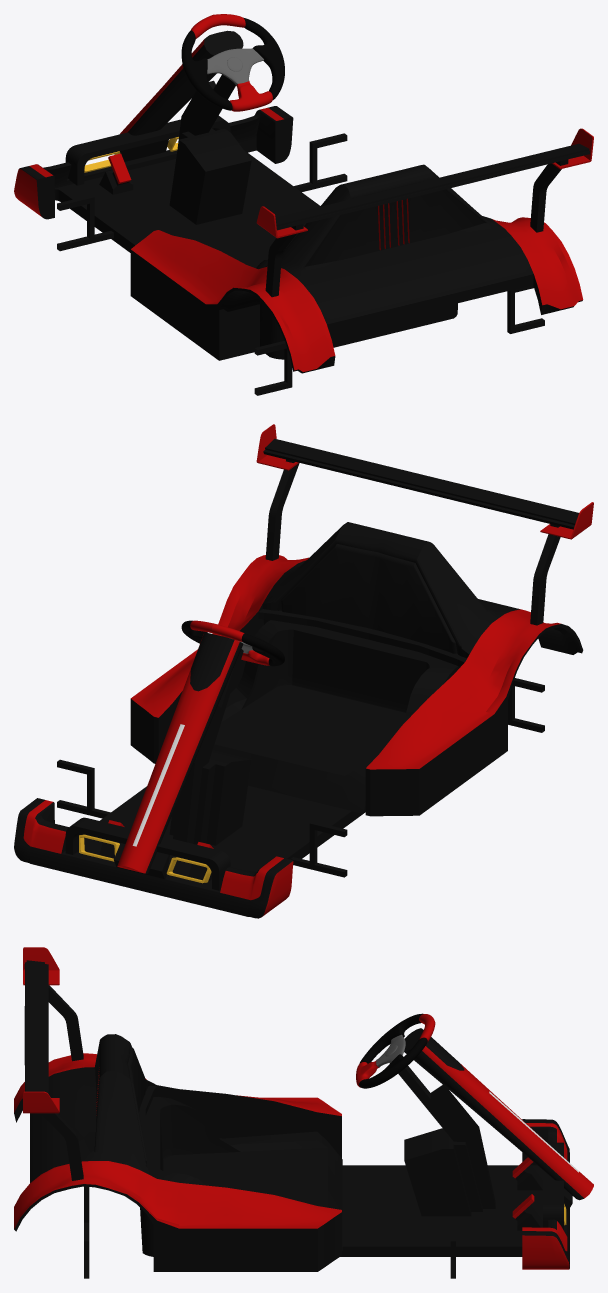
Rendered from Kart.fbx.
3 views of the same model, one above another, from view 1: azimuth 30°, elevation 25°; view 2: azimuth 150°, elevation 25°; view 3: azimuth 270°, elevation 25° (orthographic). The views are drawn at different scales.
Parts seen in each view (by area): view 1: Kart; view 2: Kart; view 3: Kart.
Boxes of the visible parts, bbox=[...] form: Kart: bbox=[14, 14, 593, 395]; Kart: bbox=[14, 424, 593, 918]; Kart: bbox=[14, 947, 593, 1278].
Bounding box in the file's own units: 1065 × 673 × 1799.
